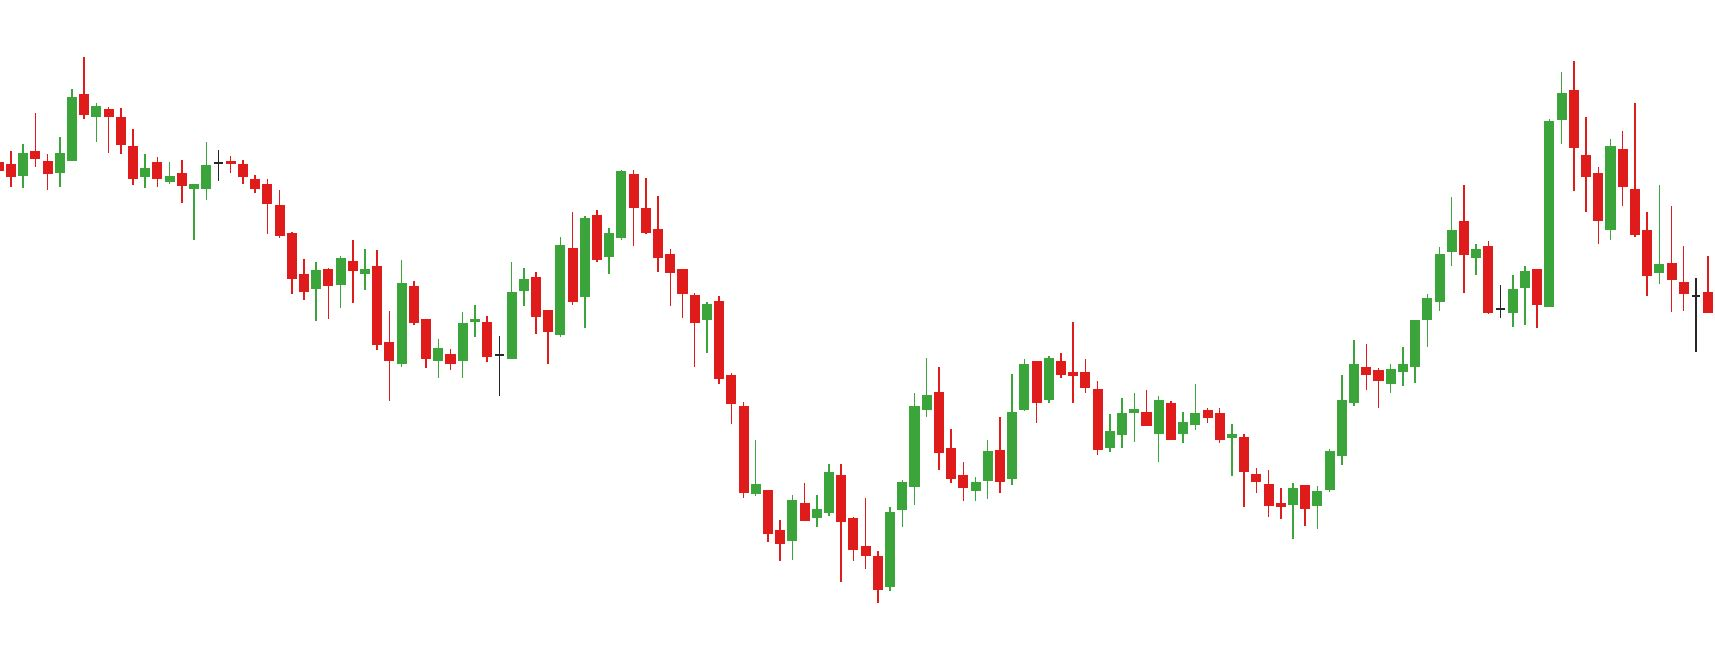buy: (775, 493, 899, 606)
